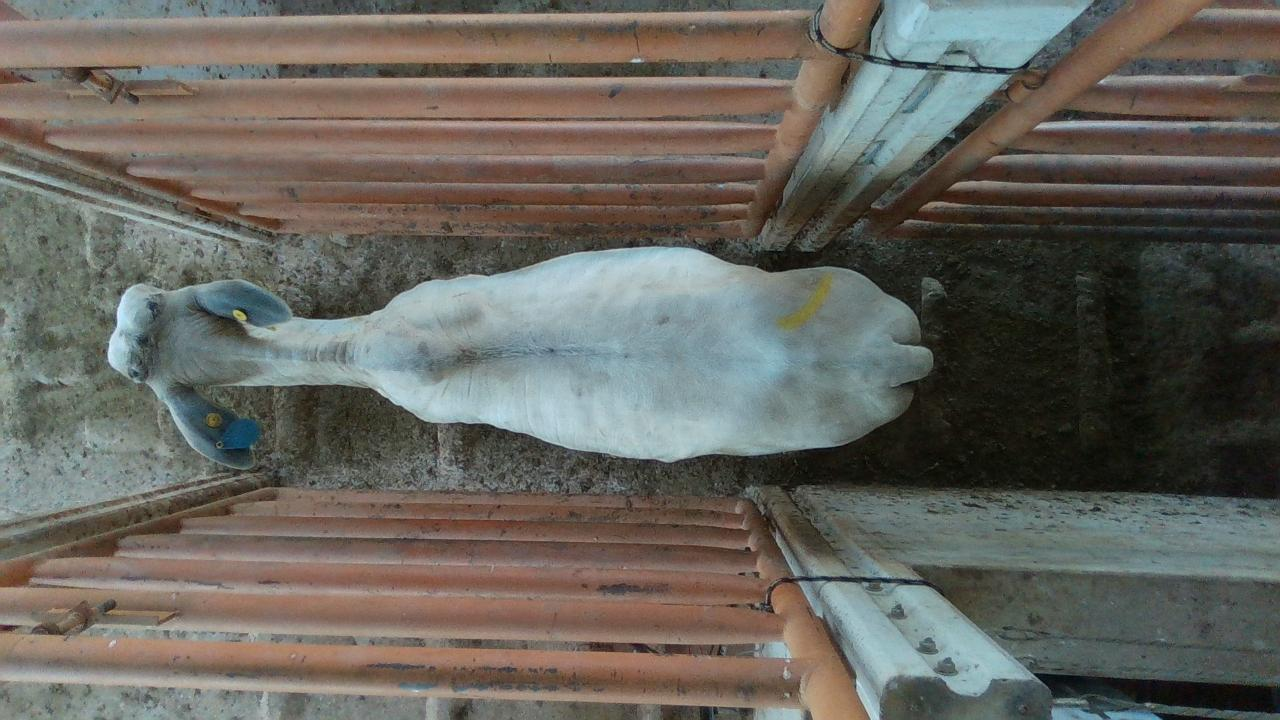cattle: (106, 243, 934, 469)
